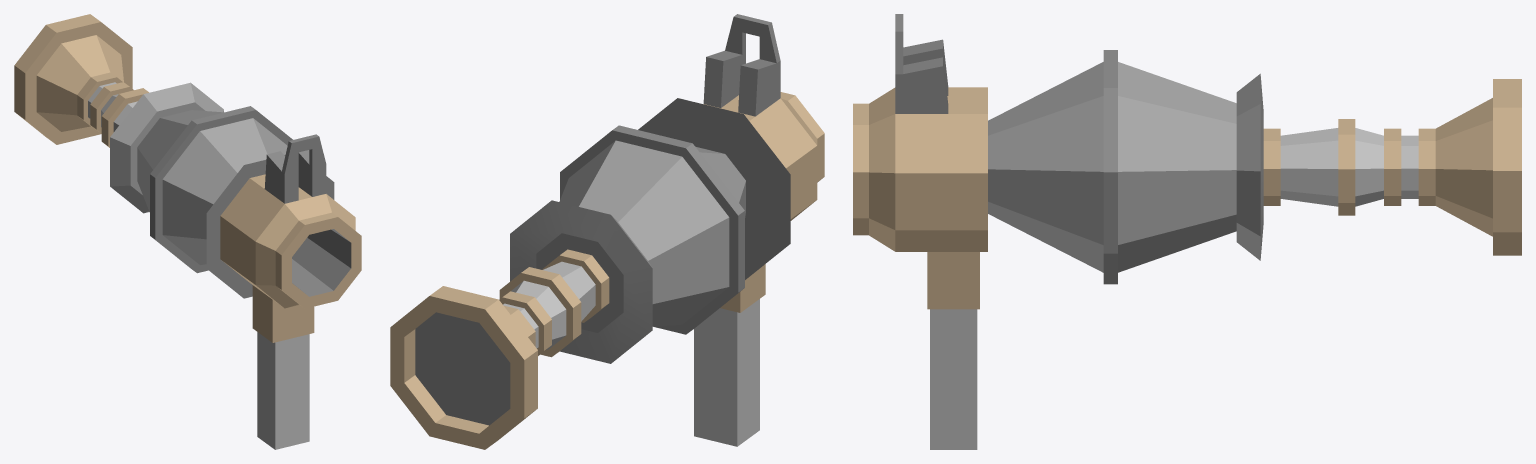
Rendered from gun.fbx.
The picture shows the model from 3 angles, left to right: view 1: azimuth 30°, elevation 25°; view 2: azimuth 150°, elevation 25°; view 3: azimuth 270°, elevation 25°; orthographic projection. The views are drawn at different scales.
Parts seen in each view (by area): view 1: rocketlauncher; view 2: rocketlauncher; view 3: rocketlauncher.
Part boxes in pixels (box(x1,y1,x2,y2)): rocketlauncher: box(14, 14, 361, 449); rocketlauncher: box(390, 14, 824, 449); rocketlauncher: box(853, 14, 1521, 449).
Bounding box in the file's own units: 4.53 × 9.6 × 13.98.
